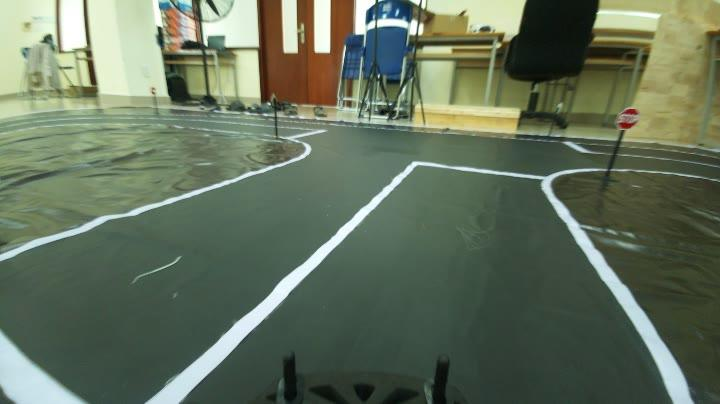stop: (612, 102, 644, 133)
